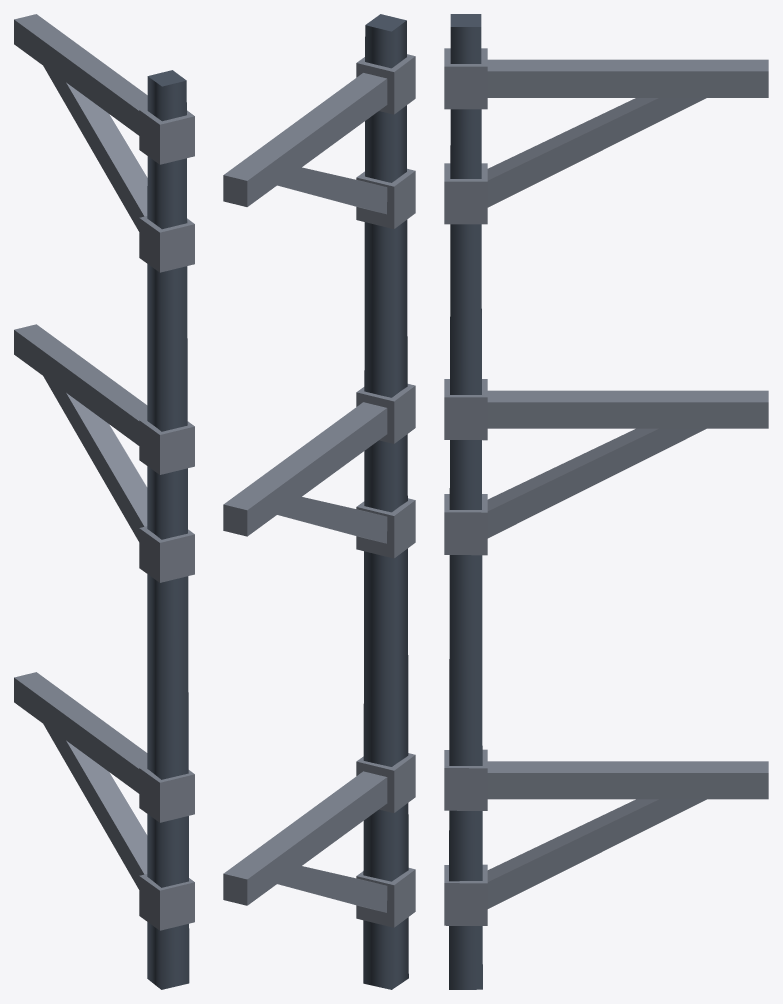
Rendered from SignHolder_5_A.fbx.
3 views of the same model, side by side, from view 1: azimuth 30°, elevation 25°; view 2: azimuth 150°, elevation 25°; view 3: azimuth 270°, elevation 25° (orthographic). The views are drawn at different scales.
Visible parts, largest first — view 1: SignHolder_5_A; view 2: SignHolder_5_A; view 3: SignHolder_5_A.
Boxes of the visible parts, <box> form: SignHolder_5_A: <box>14,14,194,989</box>; SignHolder_5_A: <box>223,14,415,989</box>; SignHolder_5_A: <box>444,14,768,989</box>.
Size of the model in its own units: 8.95 by 217 by 66.26.
